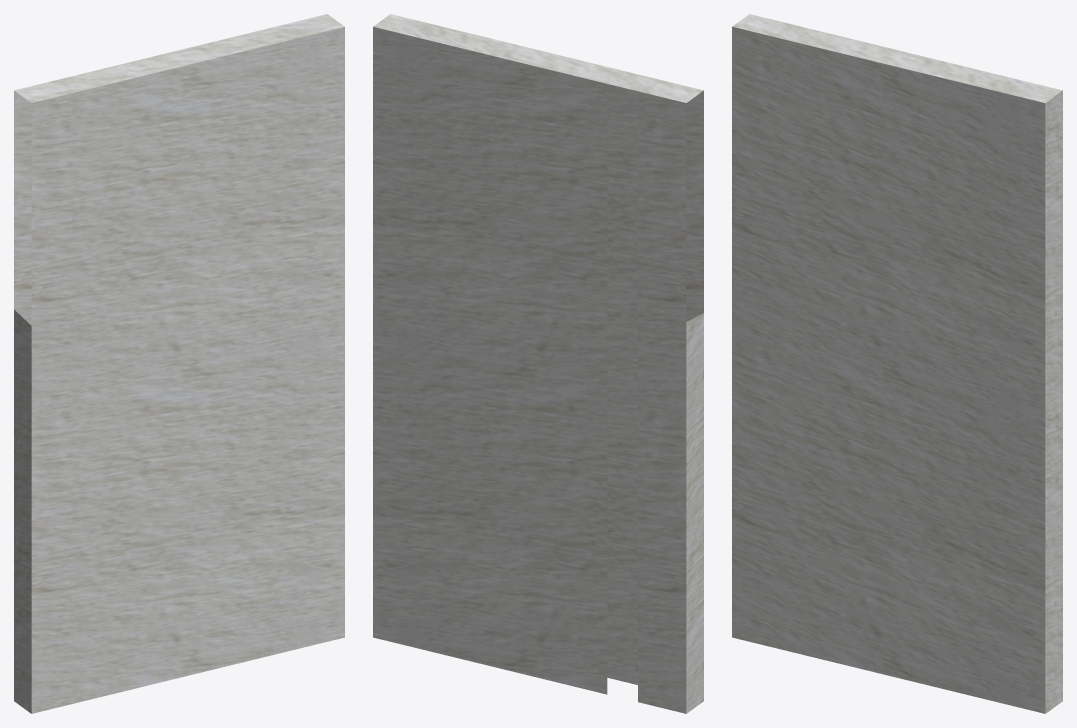
Rendered from wall_23.obj.
3 views of the same model, side by side, from view 1: azimuth 30°, elevation 25°; view 2: azimuth 150°, elevation 25°; view 3: azimuth 330°, elevation 25° (orthographic).
Visible parts, largest first — view 1: Cube.005; view 2: Cube.005; view 3: Cube.005.
Part boxes in pixels (<box>): Cube.005: <box>14,14,344,713</box>; Cube.005: <box>373,14,703,713</box>; Cube.005: <box>732,14,1062,713</box>.
Bounding box in the file's own units: 2.75 × 5.13 × 0.2644.
Materials: 1 (1 with a texture image).
